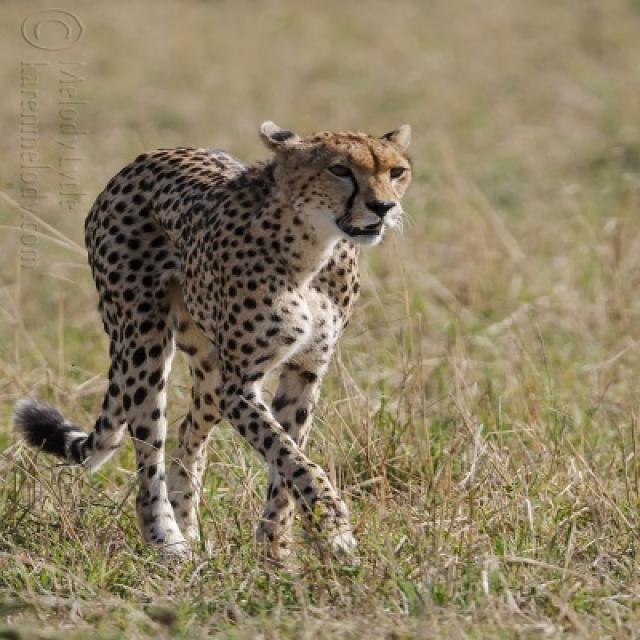Cheetah: (14, 122, 414, 566)
